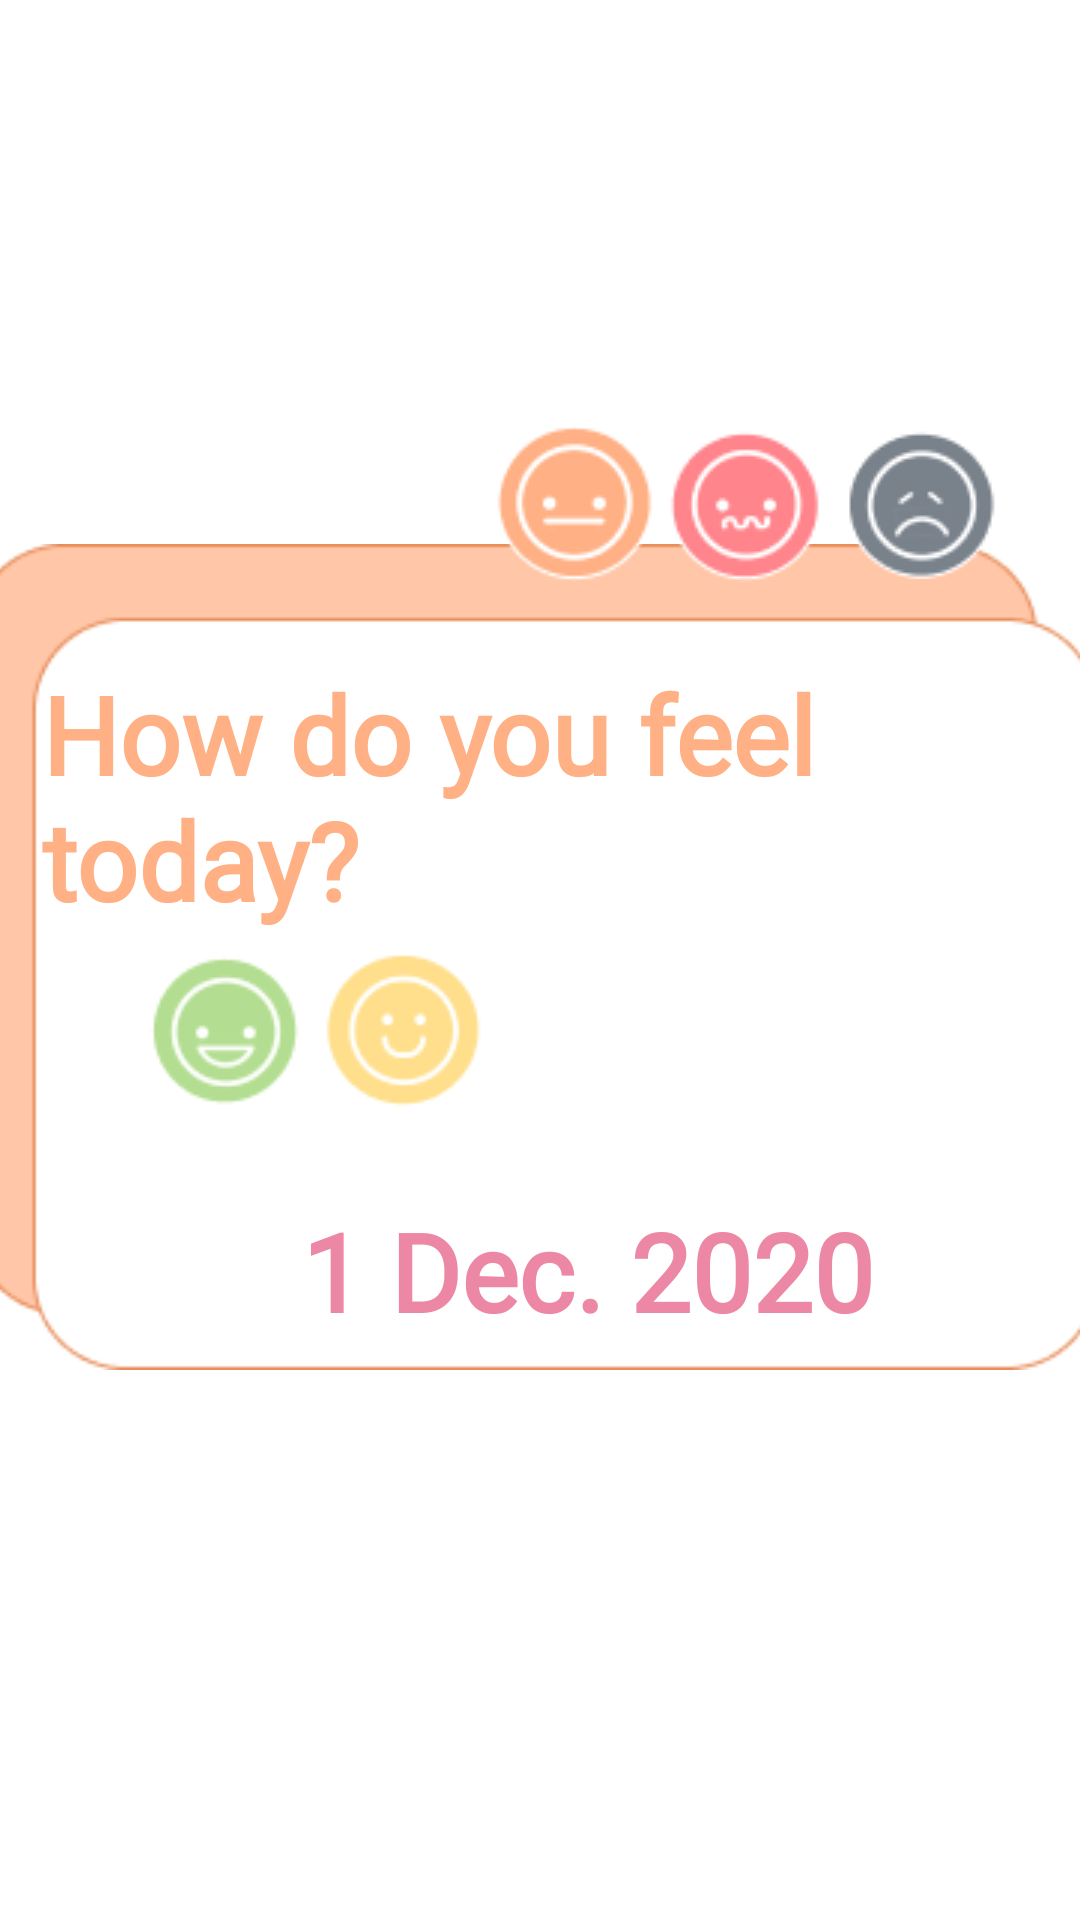

Screen size 1080px×1920px. Icon name, then its center in pixels as (x=x, y=y):
face: (x=403, y=1030)
happpy face: (x=225, y=1031)
okay face: (x=574, y=505)
sadd face: (x=920, y=506)
